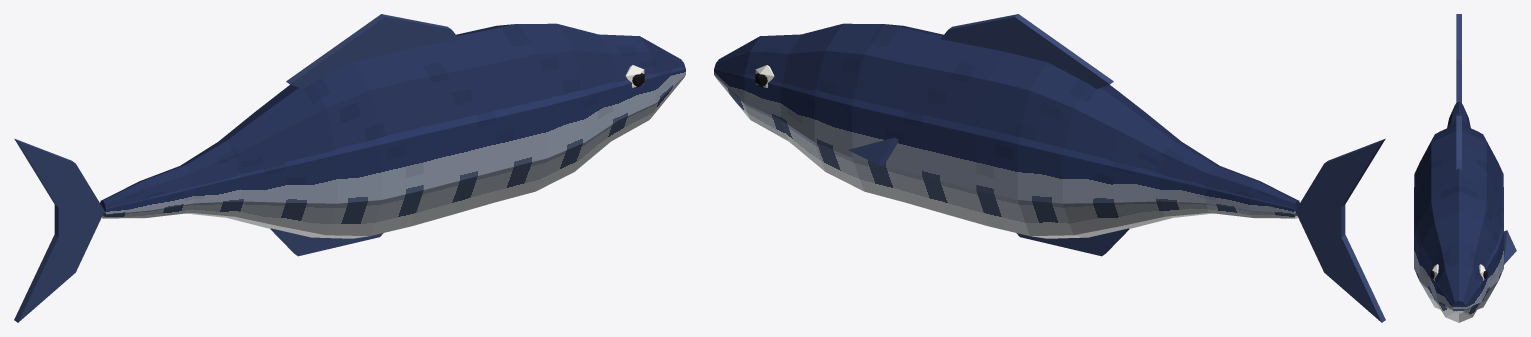
File: skipjack_tuna.glb
3 views of the same model, side by side, from view 1: azimuth 30°, elevation 25°; view 2: azimuth 150°, elevation 25°; view 3: azimuth 270°, elevation 25° (orthographic). The views are drawn at different scales.
Visible parts, largest first — view 1: fish_skipjack_tuna; view 2: fish_skipjack_tuna; view 3: fish_skipjack_tuna.
Boxes of the visible parts, x1,y1,x2,y2 form: fish_skipjack_tuna: (14, 14, 685, 322); fish_skipjack_tuna: (714, 14, 1385, 322); fish_skipjack_tuna: (1414, 14, 1516, 322).
Size of the model in its own units: 1.15 by 0.3617 by 0.2178.
4 materials, 1 textured.
